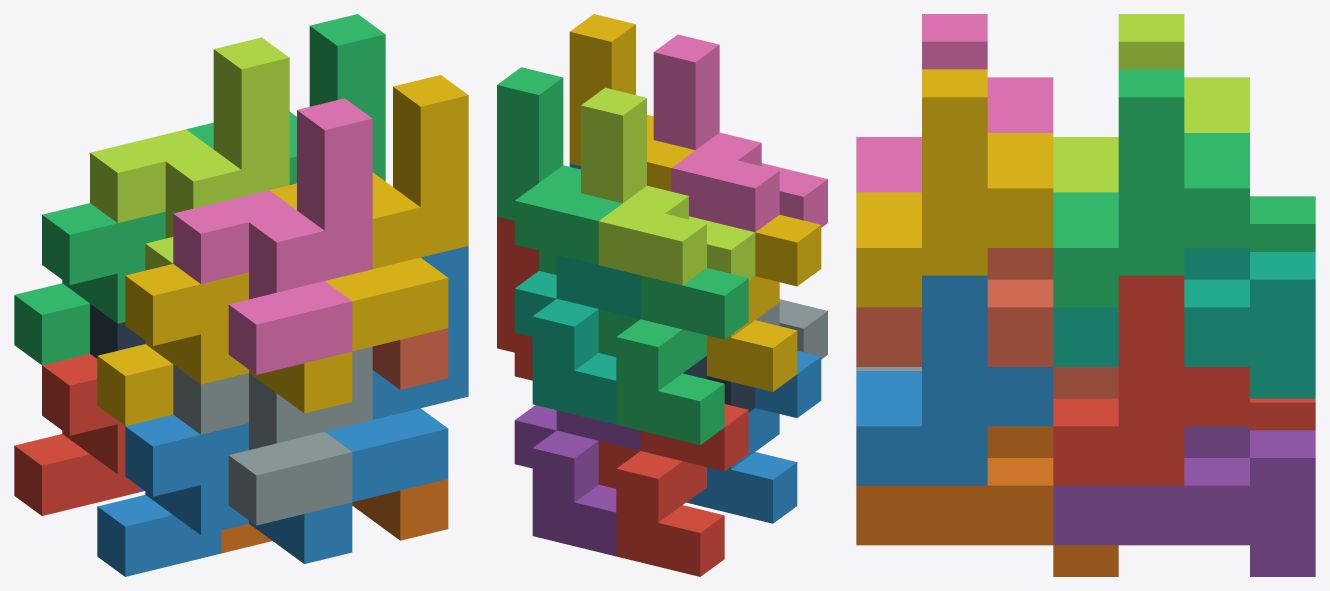
Rendered from tiling.obj.
The picture shows the model from 3 angles, left to right: view 1: azimuth 30°, elevation 25°; view 2: azimuth 150°, elevation 25°; view 3: azimuth 270°, elevation 25°; orthographic projection. The views are drawn at different scales.
Visible parts, largest first — view 1: copy_2_domain_4, copy_2_domain_8, copy_2_domain_3, copy_1_domain_2, copy_1_domain_4, copy_2_domain_2, copy_1_domain_3, copy_2_domain_6, copy_1_domain_1, copy_2_domain_7, copy_1_domain_6, copy_1_domain_8 (+1 smaller); view 2: copy_1_domain_3, copy_2_domain_3, copy_2_domain_4, copy_1_domain_1, copy_2_domain_7, copy_1_domain_7, copy_1_domain_5, copy_1_domain_4, copy_1_domain_2, copy_2_domain_8, copy_2_domain_5, copy_2_domain_2 (+1 smaller); view 3: copy_2_domain_7, copy_2_domain_8, copy_1_domain_5, copy_2_domain_6, copy_2_domain_5, copy_1_domain_7, copy_1_domain_6, copy_1_domain_8, copy_2_domain_4, copy_2_domain_3, copy_1_domain_3, copy_1_domain_1.
Part boxes in pixels (x1,y1,x2,y2): copy_2_domain_4: [173, 98, 372, 374]; copy_2_domain_8: [269, 75, 468, 351]; copy_2_domain_3: [90, 37, 289, 270]; copy_1_domain_2: [97, 414, 352, 576]; copy_1_domain_4: [97, 264, 352, 426]; copy_2_domain_2: [173, 346, 372, 525]; copy_1_domain_3: [14, 203, 165, 365]; copy_2_domain_6: [325, 246, 468, 501]; copy_1_domain_1: [14, 354, 137, 515]; copy_2_domain_7: [186, 14, 385, 184]; copy_1_domain_6: [221, 479, 448, 553]; copy_1_domain_8: [372, 328, 448, 389]; copy_1_domain_3: [598, 268, 748, 444]; copy_2_domain_3: [581, 87, 755, 285]; copy_2_domain_4: [653, 34, 827, 232]; copy_1_domain_1: [598, 404, 748, 576]; copy_2_domain_7: [497, 67, 622, 274]; copy_1_domain_7: [514, 255, 640, 424]; copy_1_domain_5: [514, 405, 640, 556]; copy_1_domain_4: [707, 214, 821, 391]; copy_1_domain_2: [689, 351, 821, 523]; copy_2_domain_8: [569, 14, 695, 191]; copy_2_domain_5: [497, 216, 538, 380]; copy_2_domain_2: [755, 299, 827, 359]; copy_2_domain_7: [1053, 69, 1249, 307]; copy_2_domain_8: [856, 69, 1053, 307]; copy_1_domain_5: [1053, 426, 1315, 576]; copy_2_domain_6: [856, 275, 1053, 485]; copy_2_domain_5: [1053, 275, 1249, 485]; copy_1_domain_7: [1053, 248, 1315, 398]; copy_1_domain_6: [856, 426, 1118, 576]; copy_1_domain_8: [856, 248, 1118, 398]; copy_2_domain_4: [856, 14, 1053, 192]; copy_2_domain_3: [1053, 14, 1249, 192]; copy_1_domain_3: [1250, 196, 1315, 251]; copy_1_domain_1: [1250, 398, 1315, 430].
Size of the model in its own units: 6 by 9 by 7.
